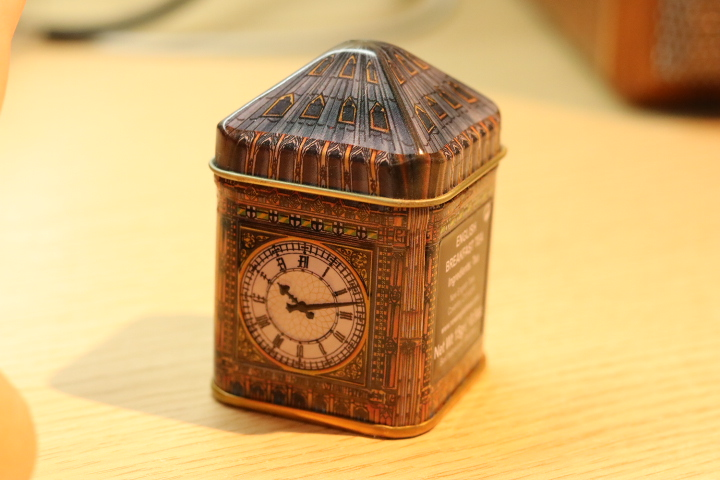Big Ben: (191, 25, 527, 452)
